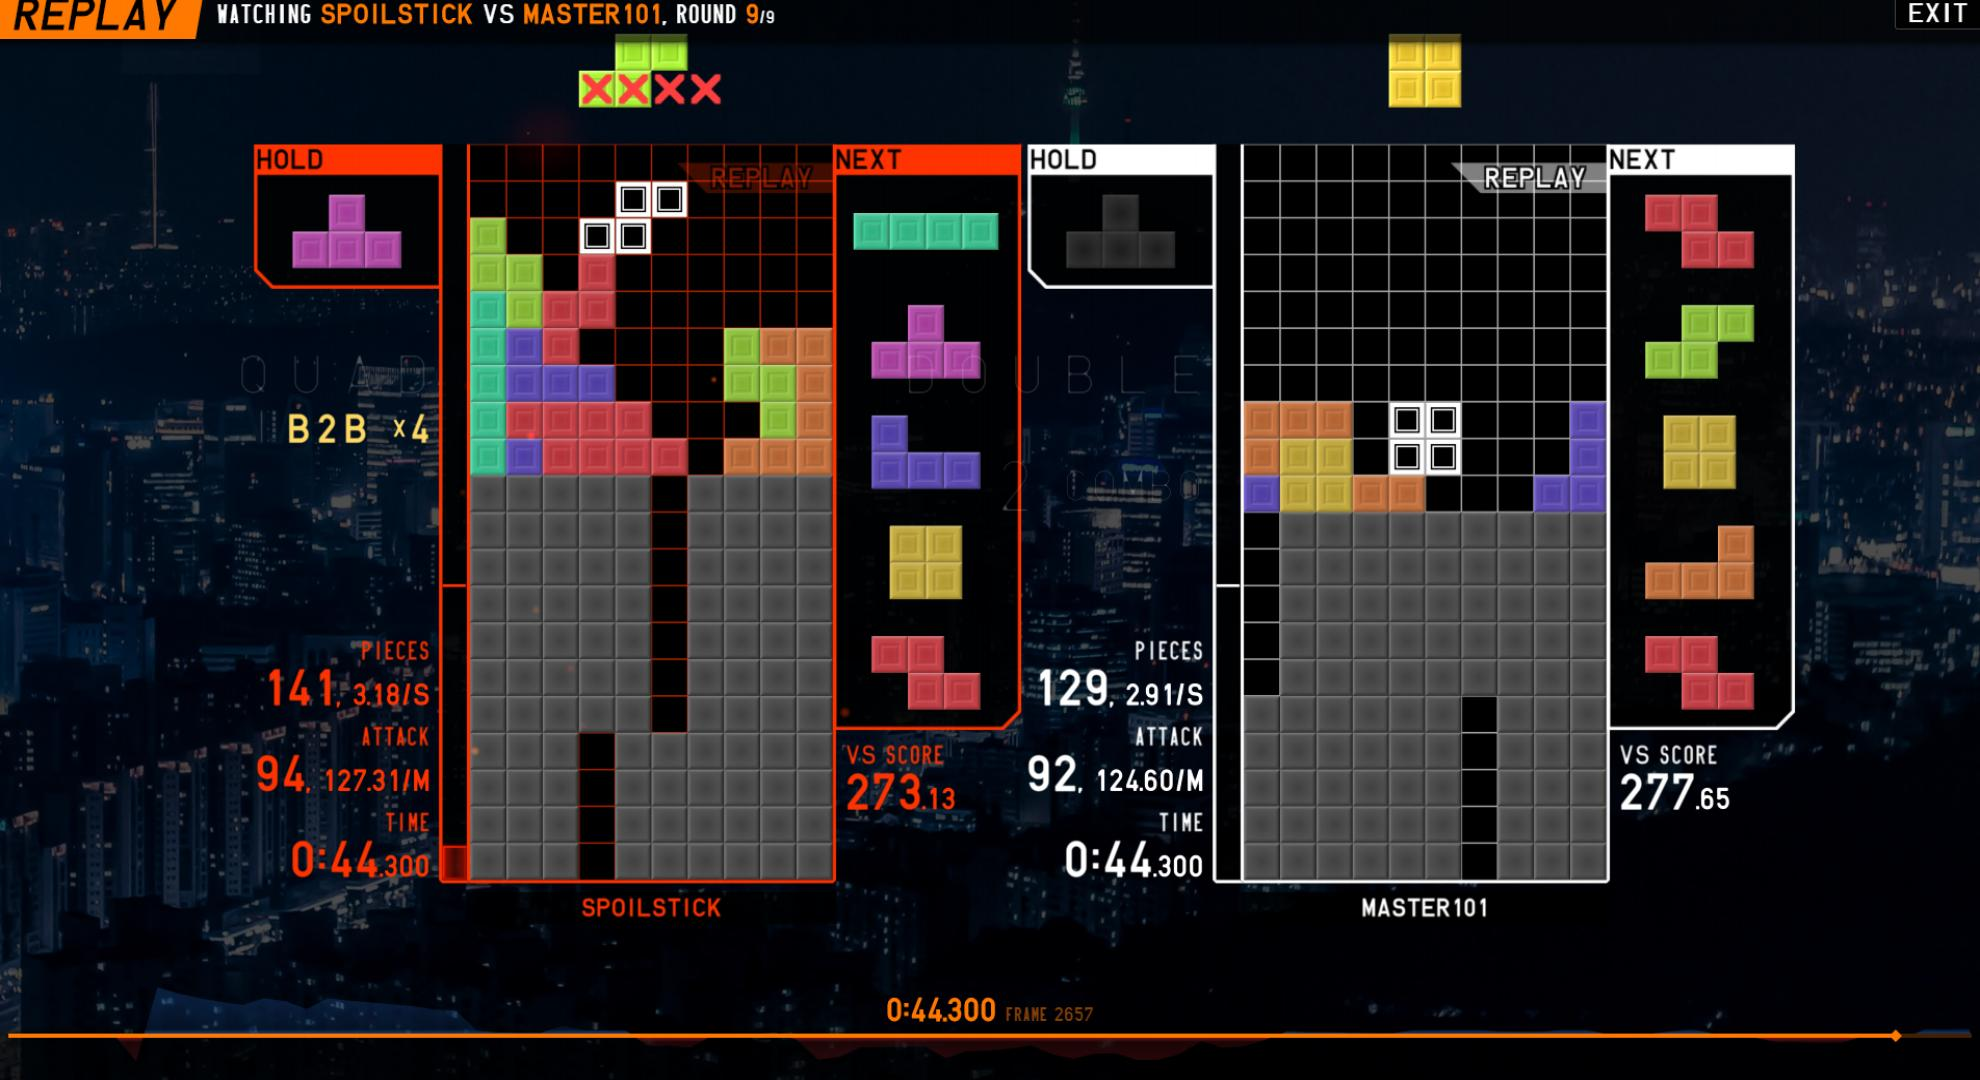tspin: (652, 360, 769, 479)
